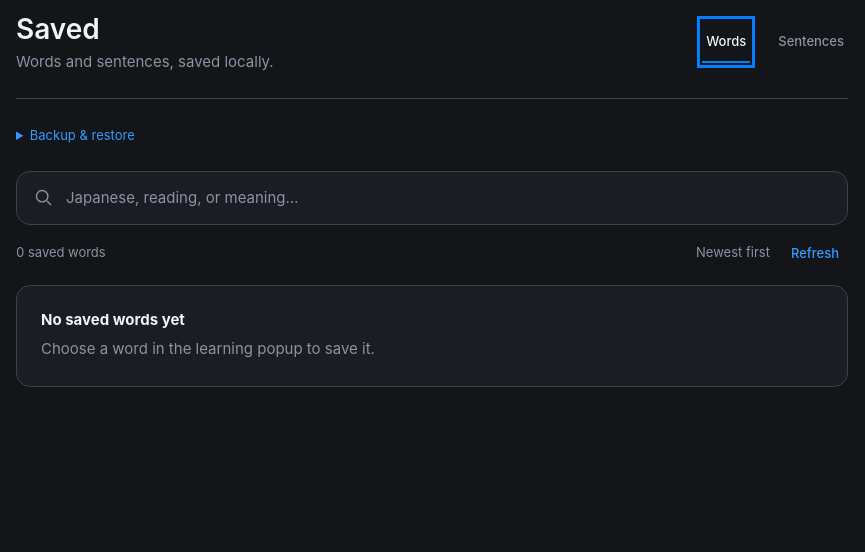
Test: exports the whole library only on request and confirms native save success
Click the heading "Backup & restore": (82, 135) [30, 127, 135, 143]
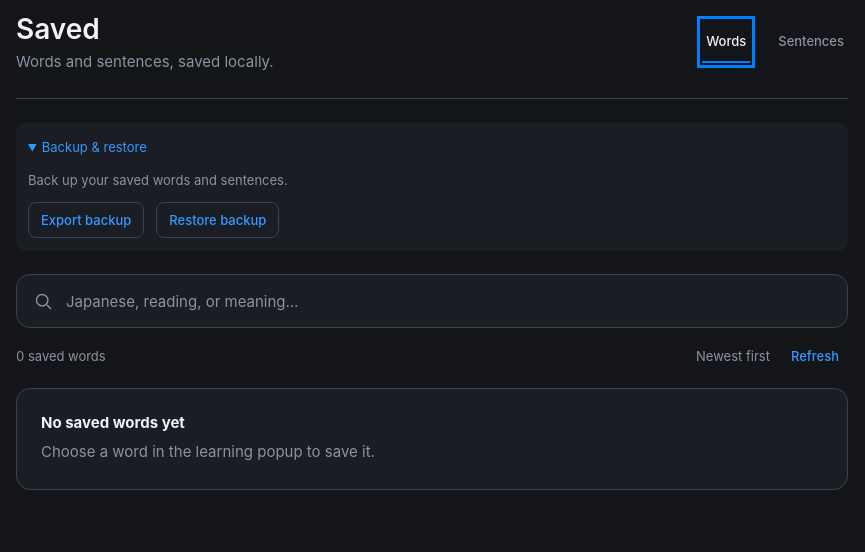
Click the button "Export backup": (86, 220) [28, 202, 144, 238]
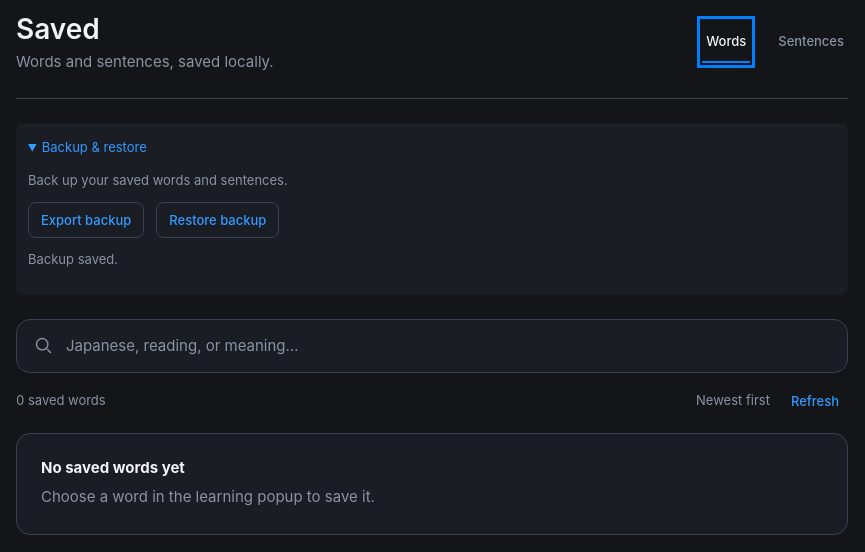
Expected: the text "Backup saved." is shown, [28, 251, 118, 267]
